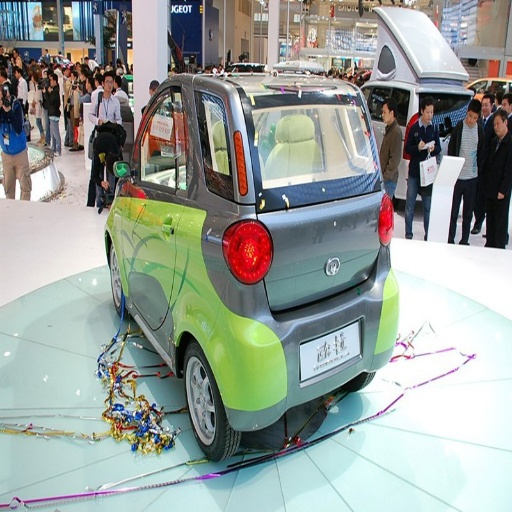back_bumper: (220, 265, 397, 424)
back_left_light: (221, 224, 269, 283), (209, 132, 248, 201)
tailgate: (302, 261, 369, 304)
trunk: (243, 176, 382, 338)
